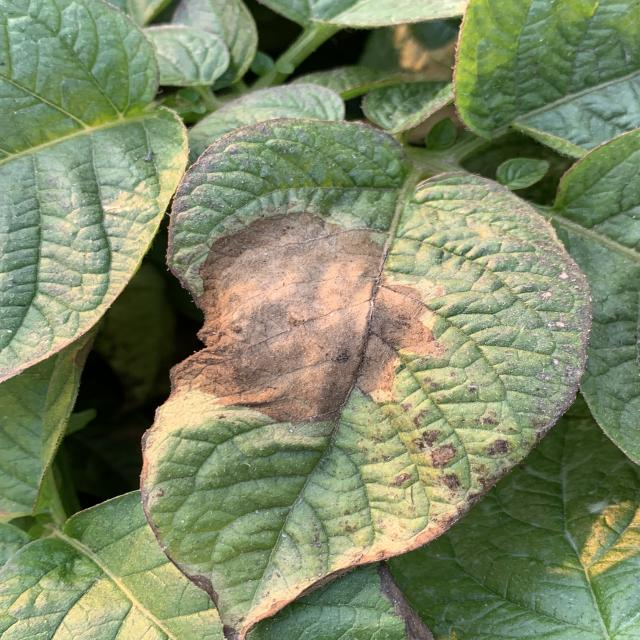lateblight: (173, 212, 438, 422)
